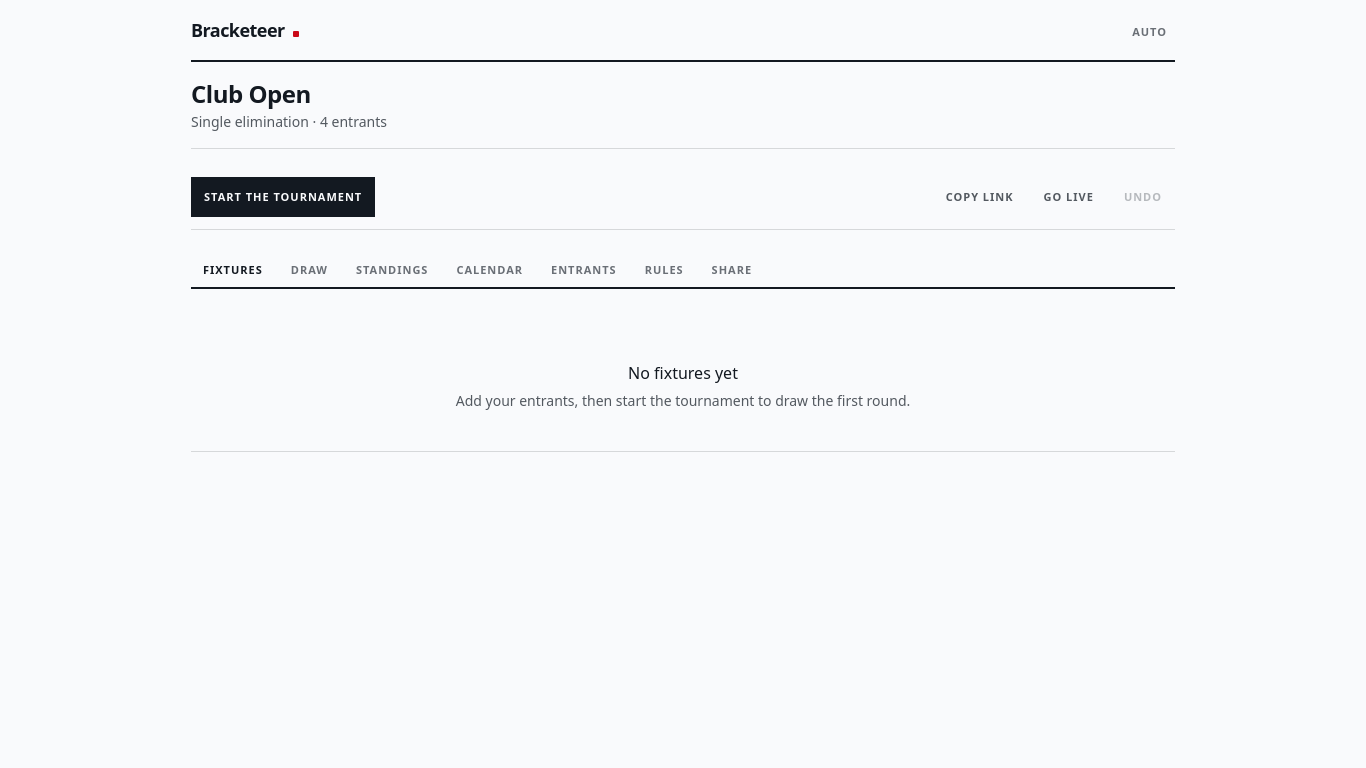
Test: score entry over the draw › closes on Escape and gives focus back
Click the button "Start the tournament".
click(283, 197)  # box x1=191 y1=177 x2=375 y2=217
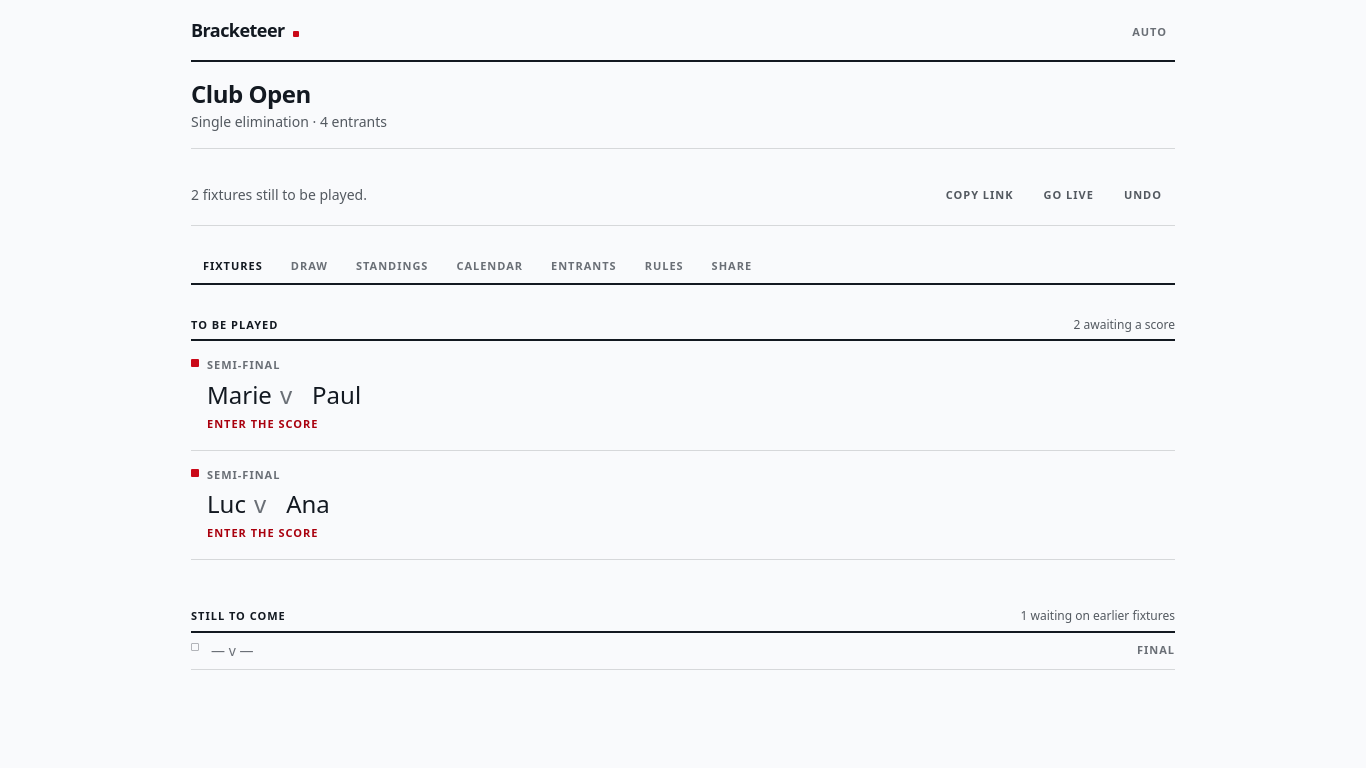
Click the link "Draw".
click(309, 266)  # box x1=291 y1=258 x2=328 y2=273
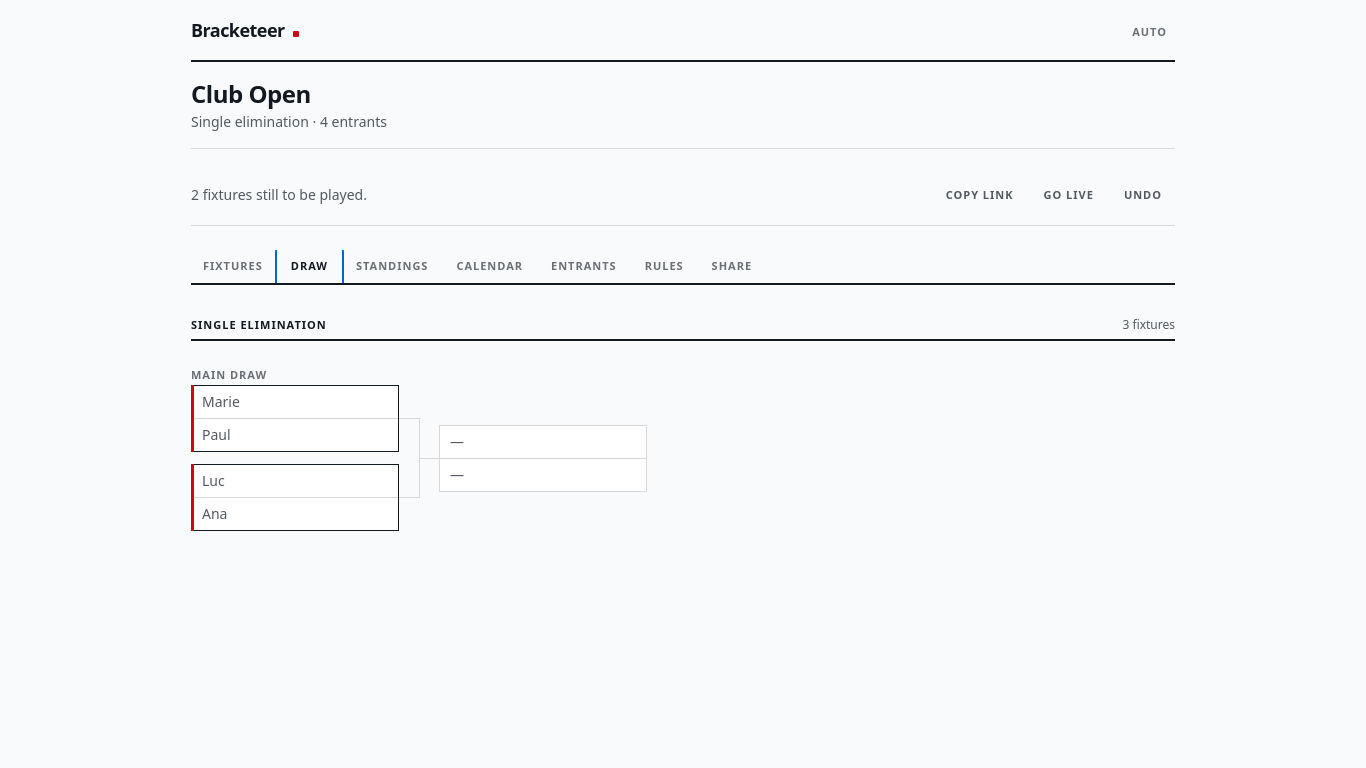
Click the button with aria-label "versus".
click(295, 418)  # box x1=191 y1=385 x2=399 y2=452
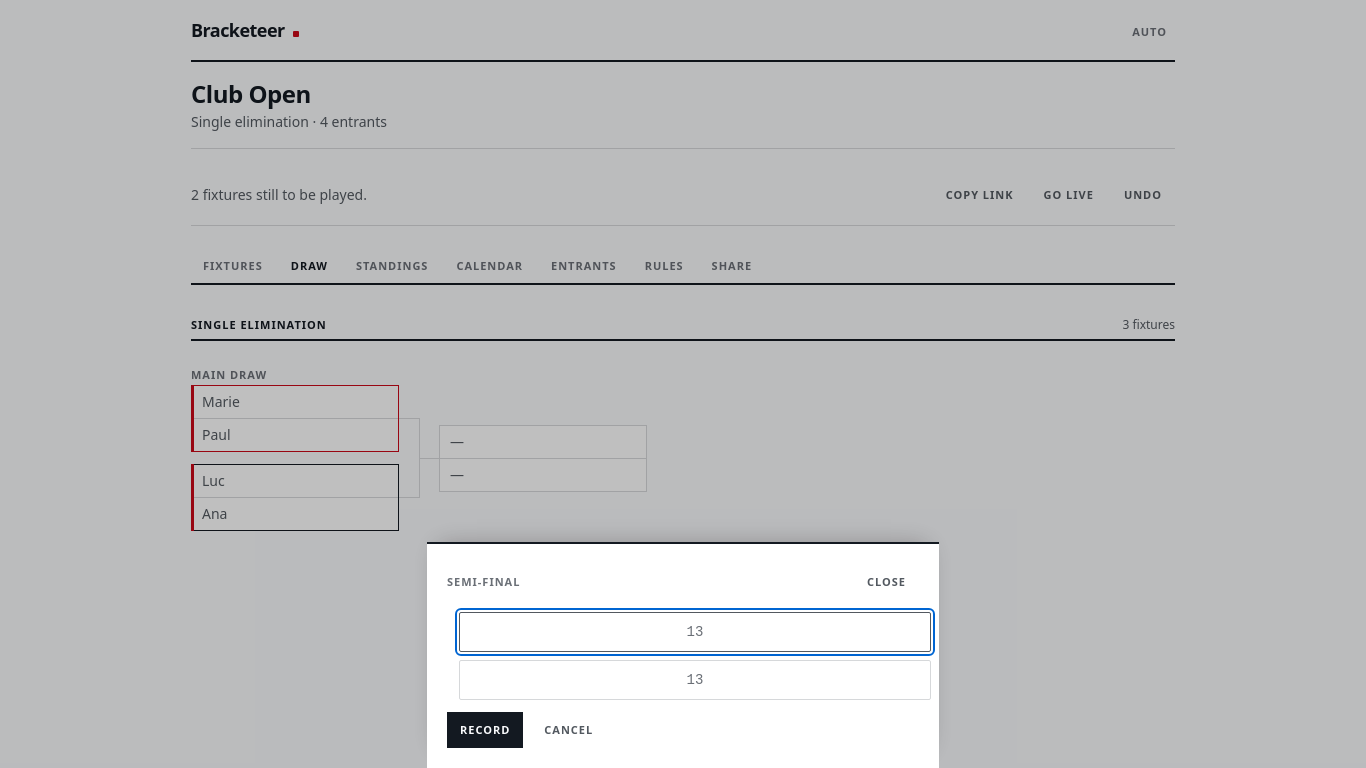
Now the dialog is shown, box x1=427 y1=542 x2=939 y2=767
Press Escape
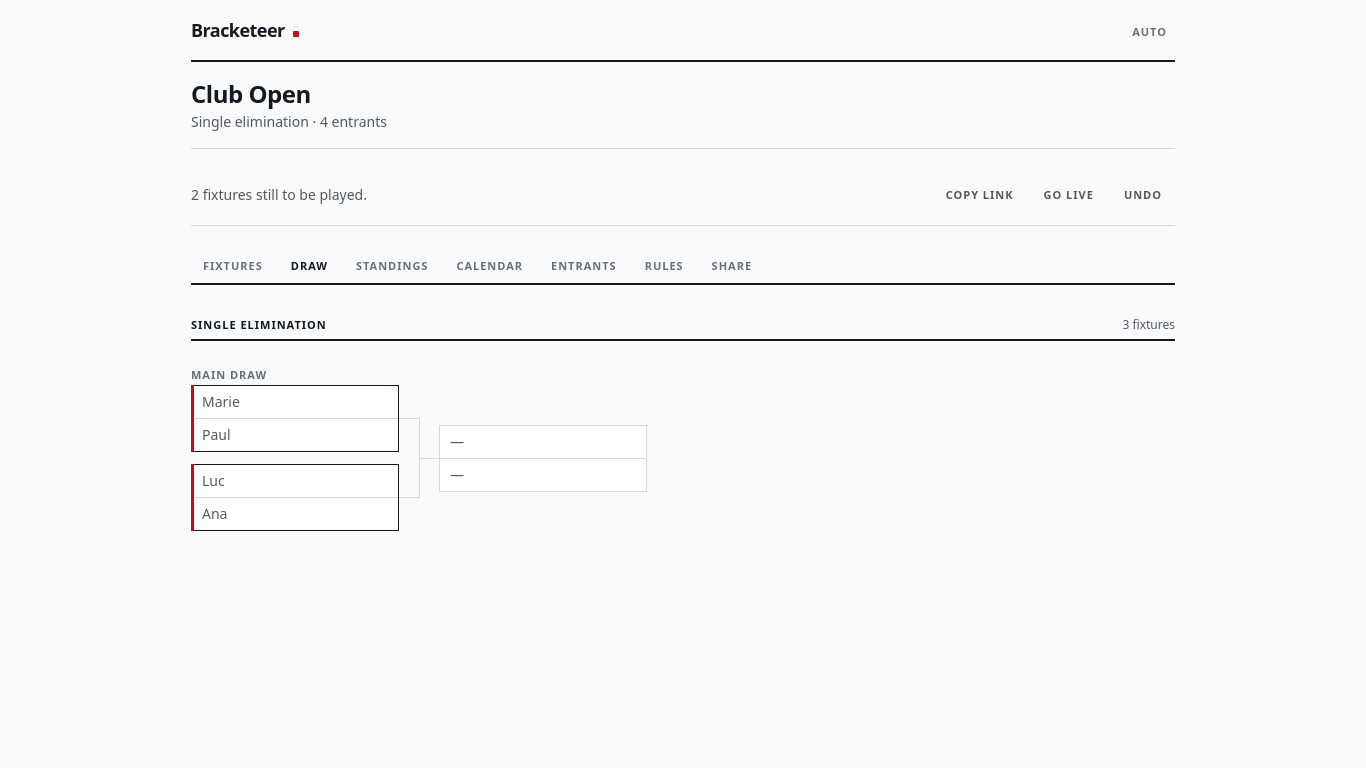
Now the dialog is gone
